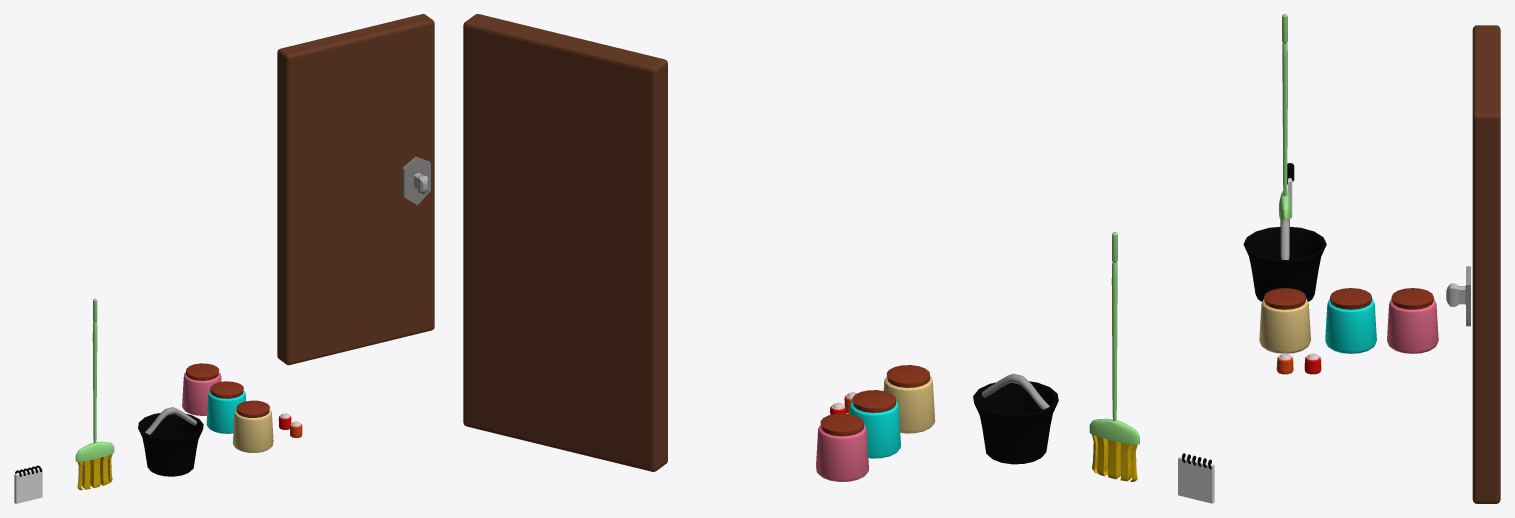
The model's file is Detalhes.fbx.
3 views of the same model, side by side, from view 1: azimuth 30°, elevation 25°; view 2: azimuth 150°, elevation 25°; view 3: azimuth 270°, elevation 25° (orthographic). The views are drawn at different scales.
Visible parts, largest first — view 1: Porta, Balde, Esfregao, PoteBege, PoteAzul, PoteRosa, Caderno; view 2: Porta, Balde, Esfregao, PoteRosa, PoteBege, PoteAzul, Caderno; view 3: Porta, Balde, PoteAzul, PoteBege, PoteRosa, Esfregao, TemperoMarrom, TemperoVermelho.
Boxes of the visible parts, left/top/right/bottom form: Porta: left=277, top=14, right=434, bottom=365; Balde: left=138, top=407, right=203, bottom=476; Esfregao: left=75, top=298, right=114, bottom=490; PoteBege: left=232, top=400, right=273, bottom=452; PoteAzul: left=206, top=381, right=245, bottom=433; PoteRosa: left=182, top=363, right=221, bottom=415; Caderno: left=14, top=465, right=42, bottom=503; Porta: left=463, top=14, right=667, bottom=471; Balde: left=973, top=373, right=1058, bottom=464; Esfregao: left=1089, top=232, right=1139, bottom=481; PoteRosa: left=816, top=413, right=868, bottom=481; PoteBege: left=883, top=365, right=935, bottom=433; PoteAzul: left=849, top=390, right=900, bottom=458; Caderno: left=1178, top=453, right=1214, bottom=503; Porta: left=1446, top=25, right=1500, bottom=503; Balde: left=1243, top=218, right=1326, bottom=301; PoteAzul: left=1325, top=288, right=1376, bottom=353; PoteBege: left=1259, top=288, right=1310, bottom=353; PoteRosa: left=1387, top=288, right=1438, bottom=353; Esfregao: left=1279, top=14, right=1291, bottom=226; TemperoMarrom: left=1276, top=353, right=1293, bottom=374; TemperoVermelho: left=1304, top=353, right=1321, bottom=374.
Bounding box in the file's own units: 333 × 200 × 119.
